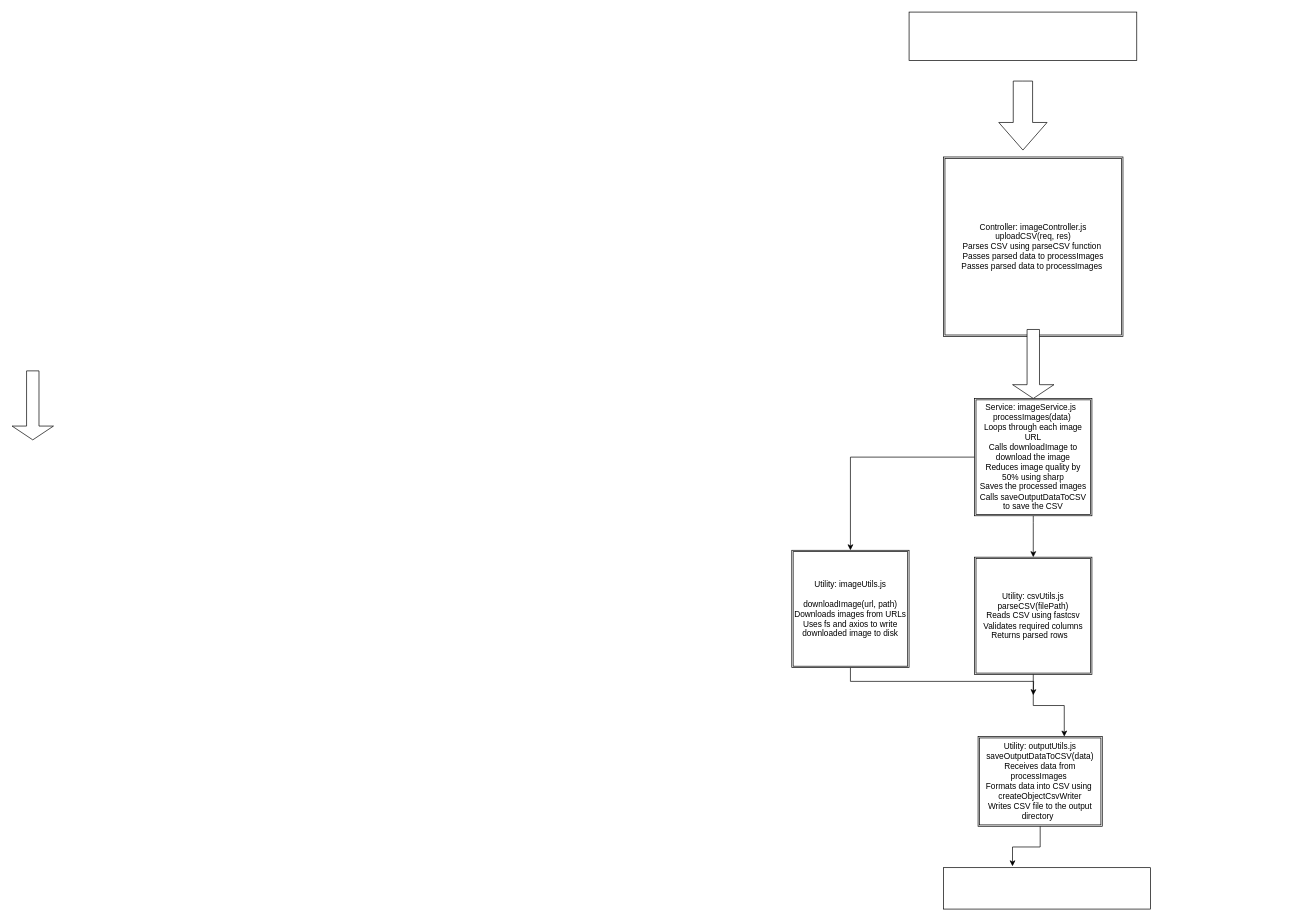
Some shapes in this 1299 by 921 pixel diagram are drawn without their labels. Here are the shapes that lost their labels. From the top down, the centre of each, then its label:
At (x=1022, y=35): "Incoming Request (upload CSV)".
At (x=1047, y=888): "Output: output_images.csv CSV file with processed data".
